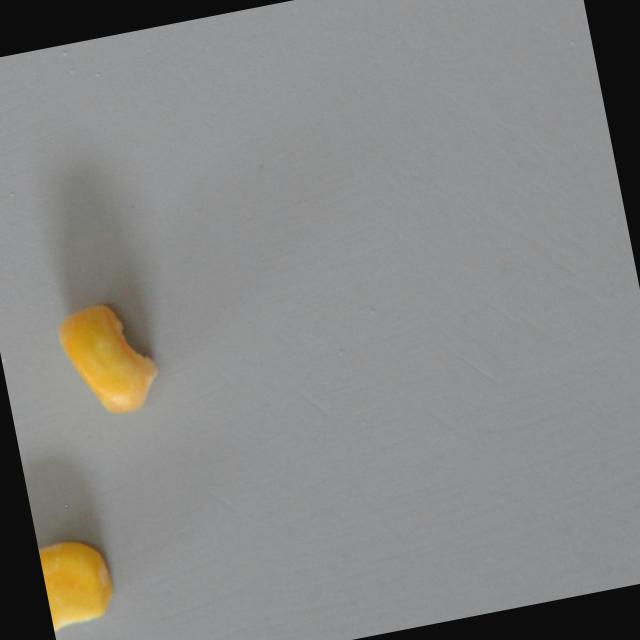no_canjicado: (50, 291, 166, 423)
pelicula: (37, 530, 120, 635)
